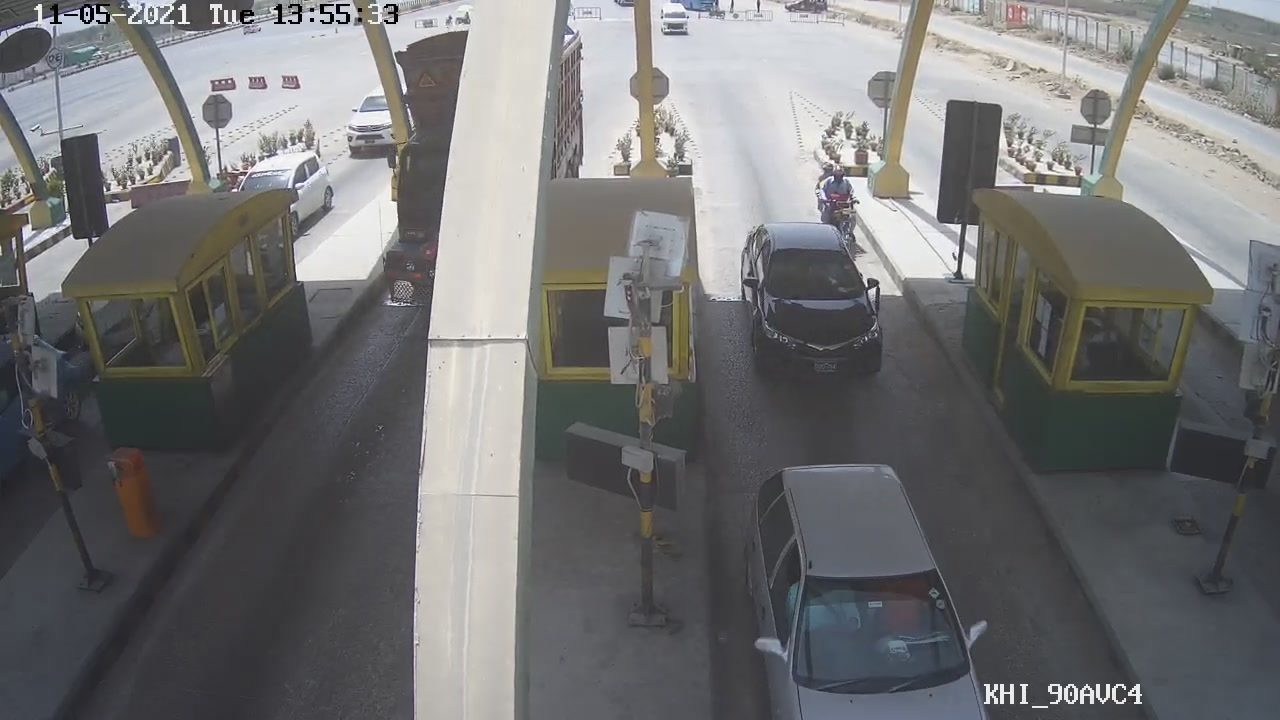F2: (729, 216, 888, 394)
